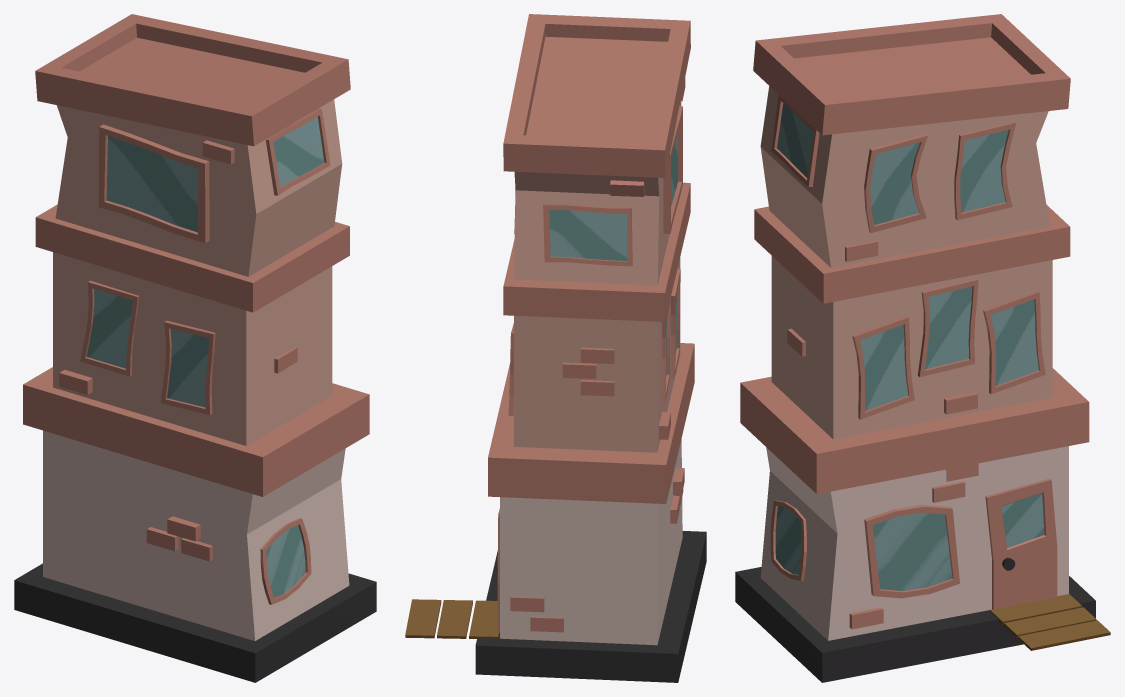
The model's file is SM_Apartments.fbx.
3 renders of one model, left to right at view 1: azimuth 30°, elevation 25°; view 2: azimuth 150°, elevation 25°; view 3: azimuth 270°, elevation 25°, orthographic. The views are drawn at different scales.
Visible parts, largest first — view 1: building, Cube.055, bricks; view 2: building, Cube.055, bricks, maderasSuelo.010; view 3: building, Cube.055, maderasSuelo.010, bricks.
Boxes of the visible parts, bbox=[...] form: building: bbox=[23, 14, 369, 640]; Cube.055: bbox=[14, 563, 376, 682]; bricks: bbox=[59, 140, 297, 561]; building: bbox=[488, 14, 694, 645]; Cube.055: bbox=[475, 531, 706, 682]; bricks: bbox=[510, 77, 685, 632]; maderasSuelo.010: bbox=[405, 599, 499, 638]; building: bbox=[740, 14, 1089, 640]; Cube.055: bbox=[735, 567, 1095, 682]; maderasSuelo.010: bbox=[990, 594, 1110, 650]; bricks: bbox=[787, 240, 978, 629].
Bounding box in the file's own units: 482 × 951 × 573.
